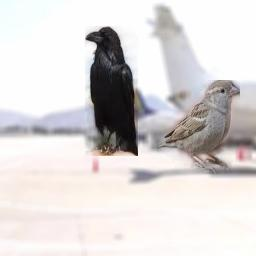Crow: (85, 26, 138, 156)
Sparrow: (157, 80, 240, 174)
